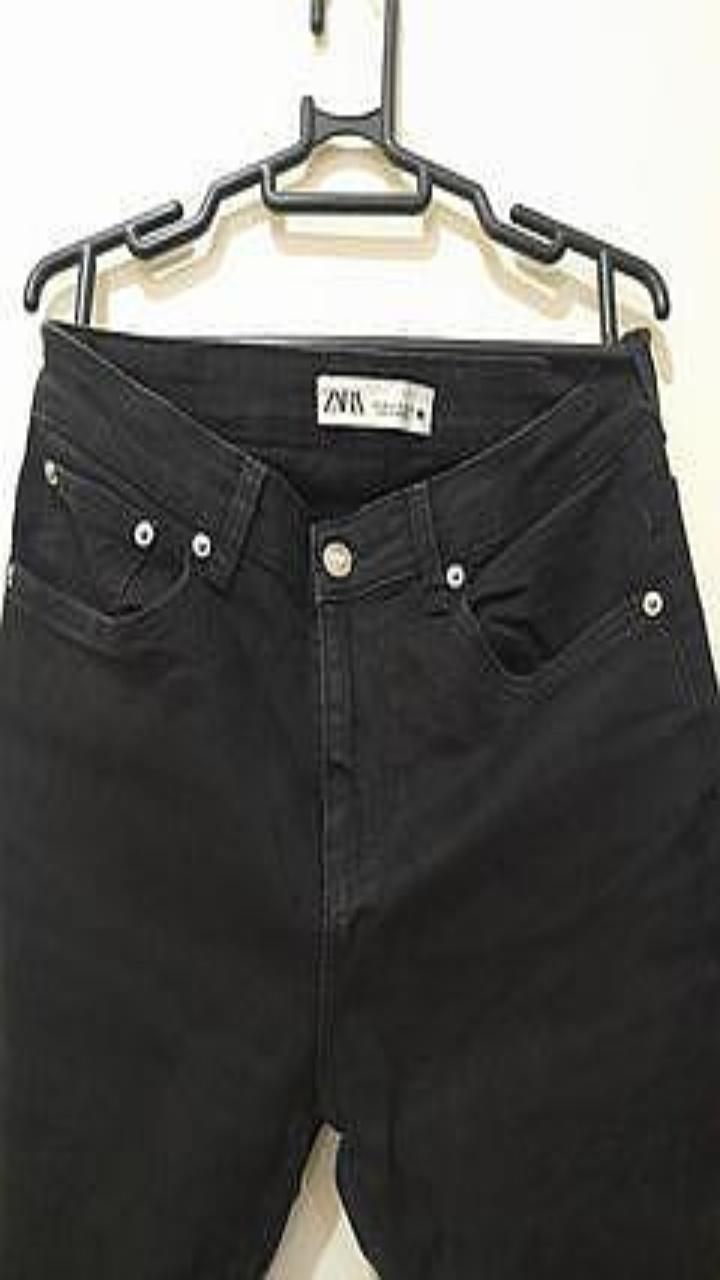Shorts: (0, 321, 719, 1279)
